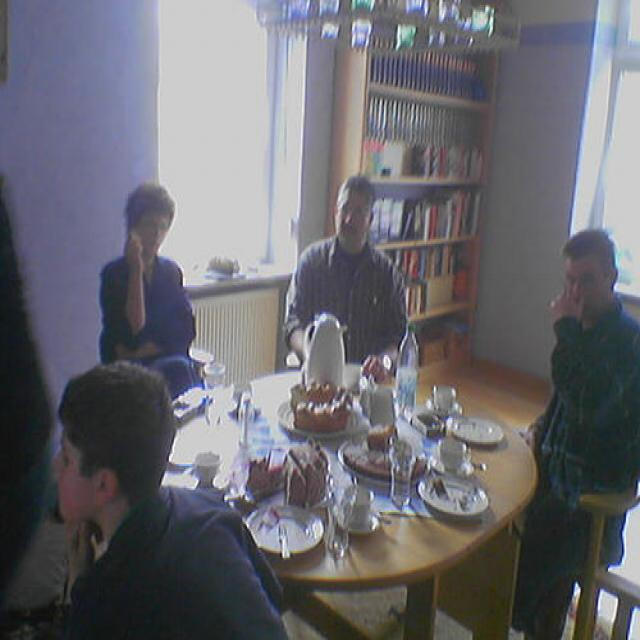chair: (541, 483, 640, 640), (189, 347, 213, 380), (285, 350, 301, 368)
dining table: (168, 367, 538, 630)
